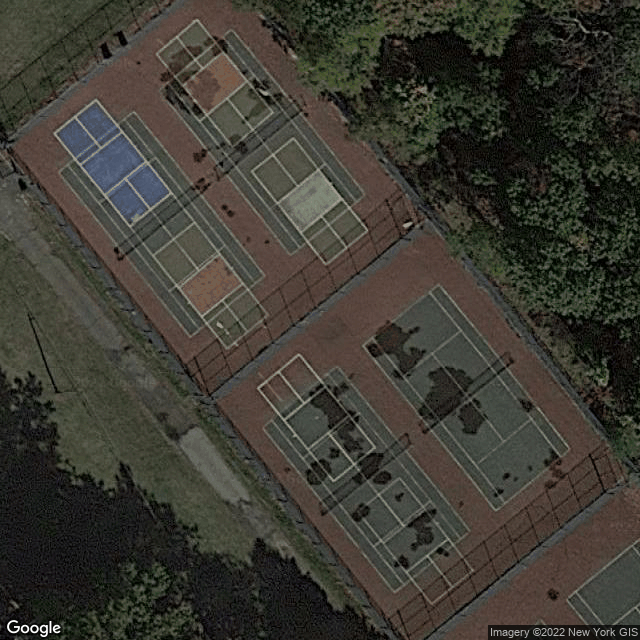Court: (154, 28, 369, 256), (361, 282, 572, 513), (260, 365, 472, 593), (56, 113, 266, 339), (565, 534, 640, 625)
